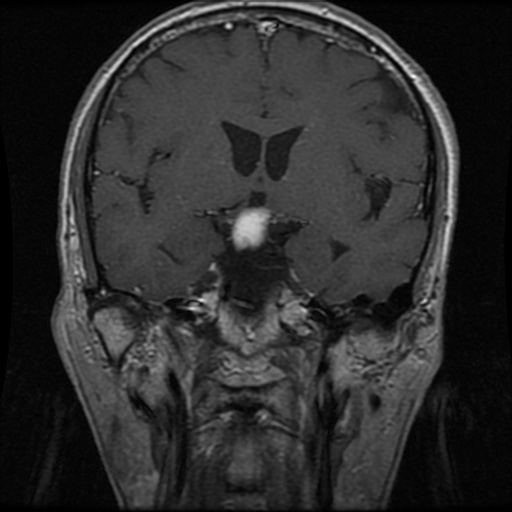meningioma: (232, 205, 271, 249)
